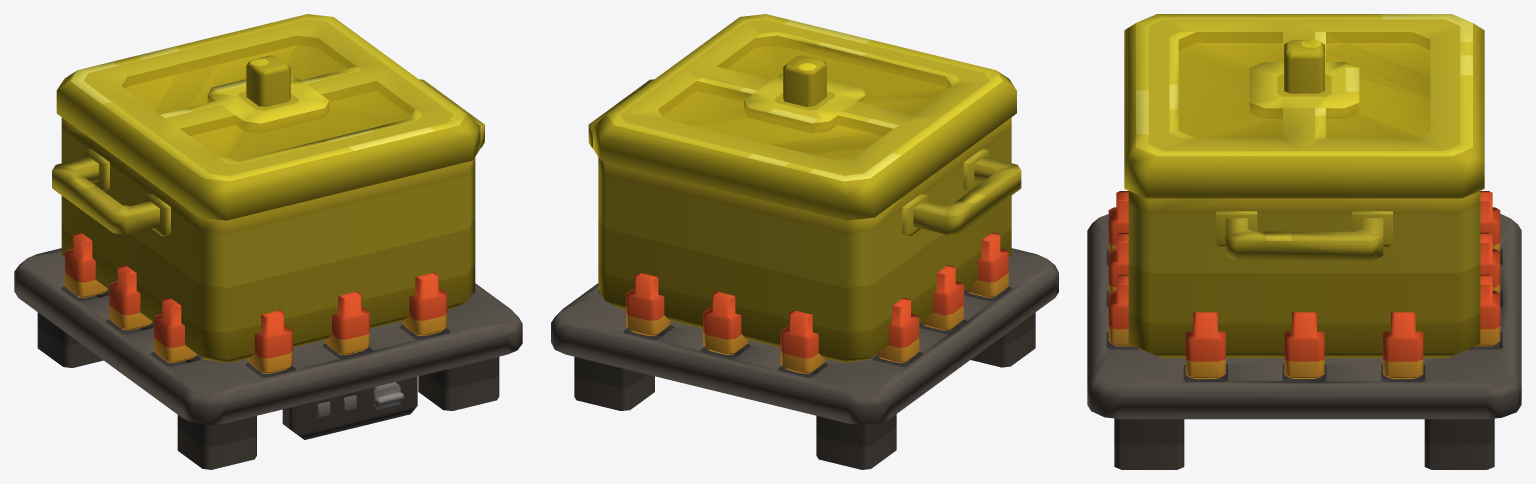
File: cauldron_gold.obj
The picture shows the model from 3 angles, left to right: view 1: azimuth 30°, elevation 25°; view 2: azimuth 150°, elevation 25°; view 3: azimuth 270°, elevation 25°; orthographic projection. The views are drawn at different scales.
Parts seen in each view (by area): view 1: cauldron_gold_lid, cauldron_gold_pot, cauldron_base, cauldron_flame; view 2: cauldron_gold_lid, cauldron_gold_pot, cauldron_base, cauldron_flame; view 3: cauldron_gold_lid, cauldron_gold_pot, cauldron_base, cauldron_flame.
Part boxes in pixels (x1,y1,x2,y2): cauldron_gold_lid: (56,14,480,220); cauldron_gold_pot: (52,79,484,362); cauldron_base: (14,248,522,469); cauldron_flame: (65,232,447,373); cauldron_gold_lid: (593,14,1016,220); cauldron_gold_pot: (588,79,1021,362); cauldron_base: (551,248,1058,469); cauldron_flame: (626,232,1008,373); cauldron_gold_lid: (1124,14,1484,198); cauldron_gold_pot: (1128,191,1480,357); cauldron_base: (1087,214,1521,469); cauldron_flame: (1108,191,1500,378).
Size of the model in its own units: 5.41 by 4.3 by 4.94.
